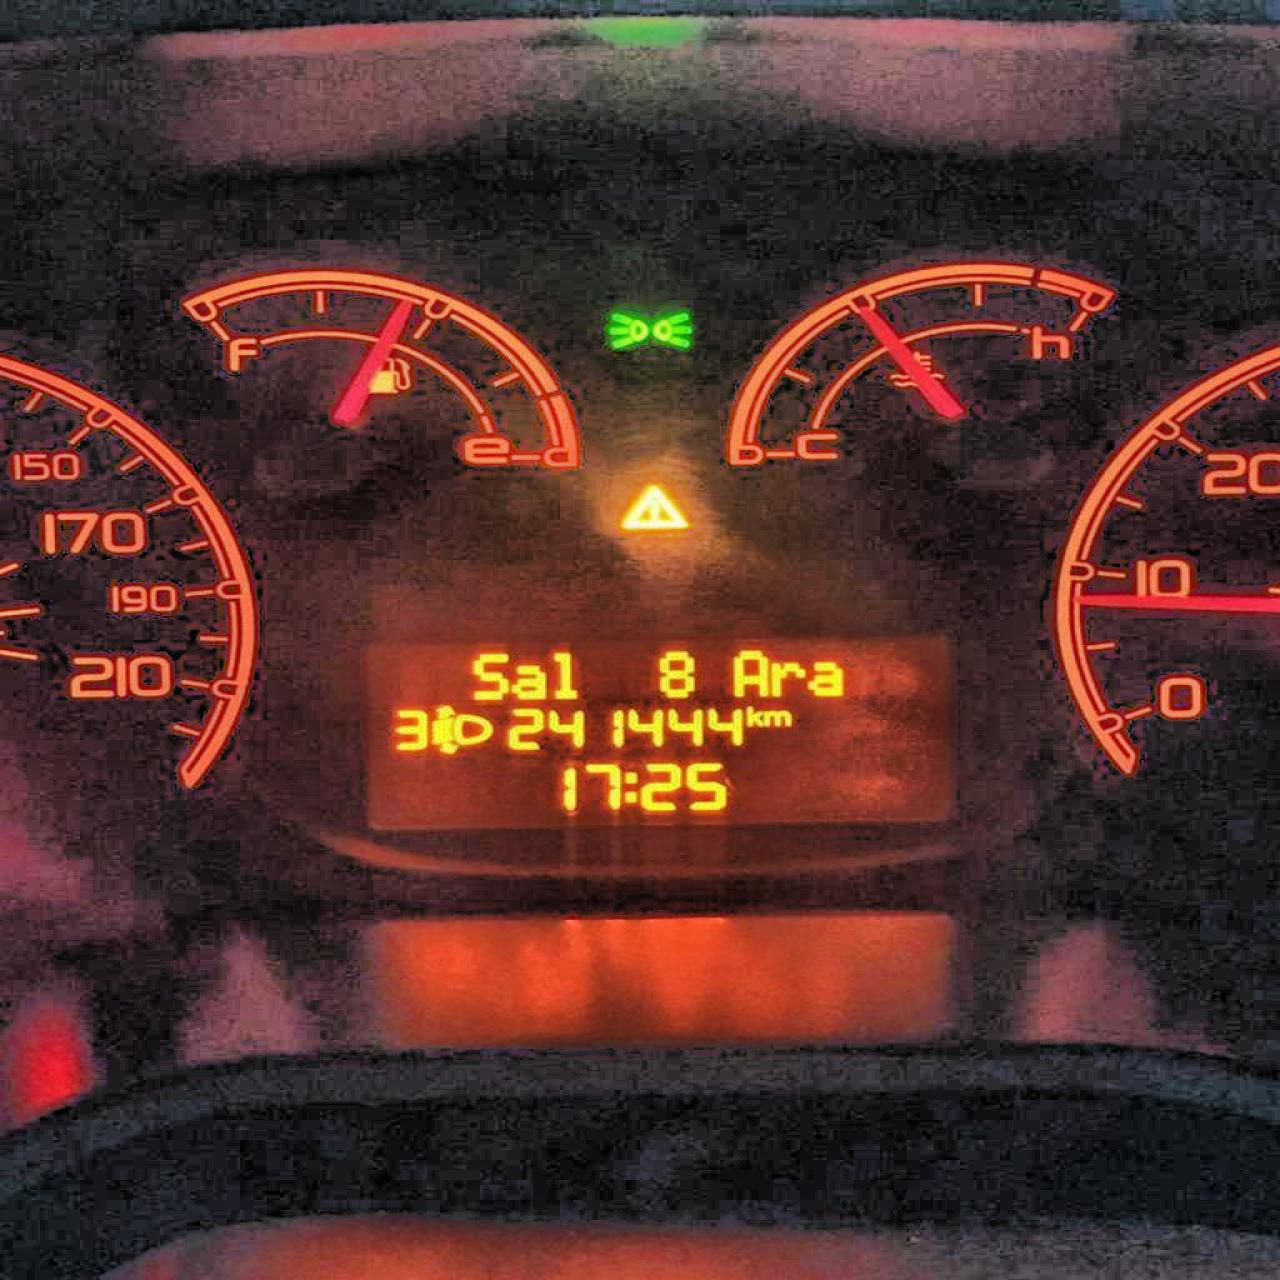1: (554, 761, 580, 811), (598, 707, 625, 749)
2: (502, 702, 549, 753), (639, 760, 680, 812)
3: (387, 707, 427, 751)
4: (625, 703, 663, 747), (546, 704, 584, 749), (706, 704, 742, 750), (667, 704, 703, 747)
5: (683, 760, 729, 812)
7: (580, 758, 621, 811)
8: (651, 649, 702, 699)
X: (726, 645, 770, 700), (469, 647, 509, 703), (550, 647, 581, 702), (510, 660, 549, 702), (806, 656, 845, 697), (770, 658, 805, 699), (621, 764, 639, 808), (763, 708, 795, 727), (742, 702, 763, 728)
odometer: (347, 625, 964, 836)
